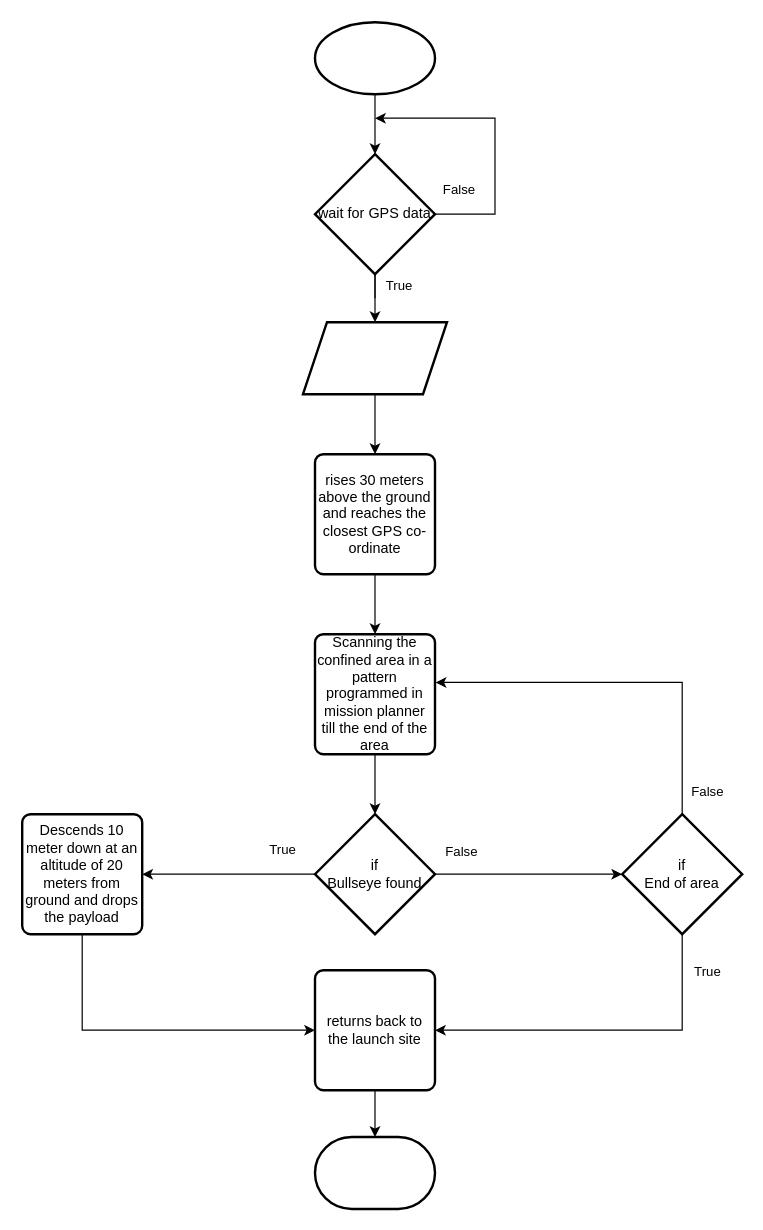
This 763x1230 diagram has some shape labels left out. The shapes that lost their labels are listed below. From the top down, each one's centre as x and y in pixels, then its label:
At [374,57]: "Start".
At [374,357]: "Reads GPS co-ordinates".
At [374,1172]: "end".
